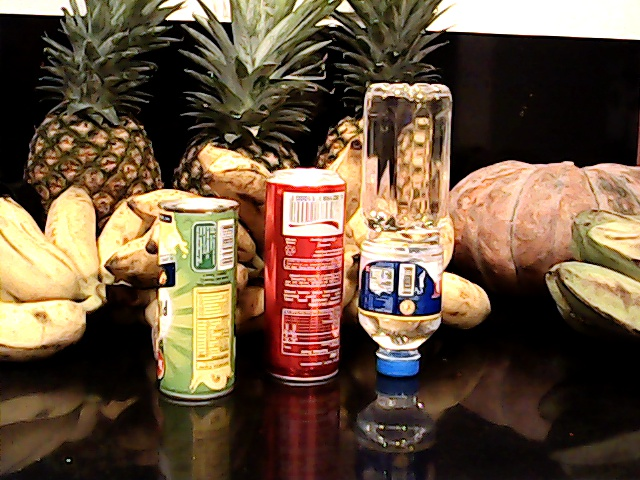Cola: (259, 159, 353, 392)
Pine Juice: (148, 185, 247, 406)
Summit Water: (353, 71, 449, 386)
